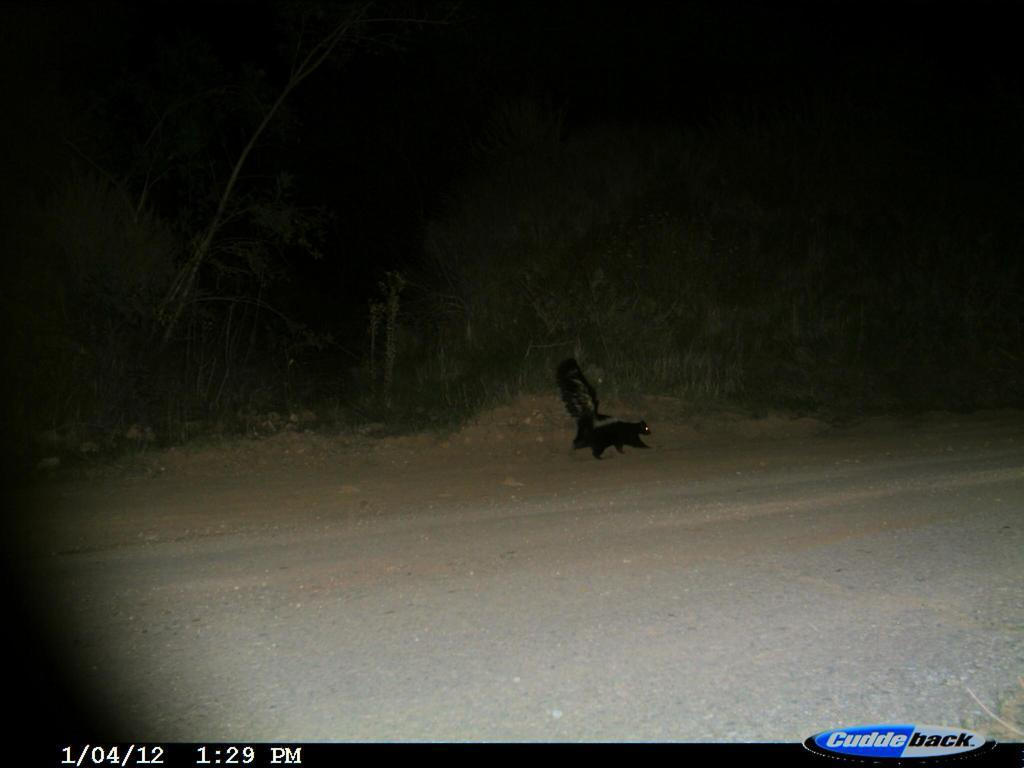skunk: (542, 359, 676, 479)
